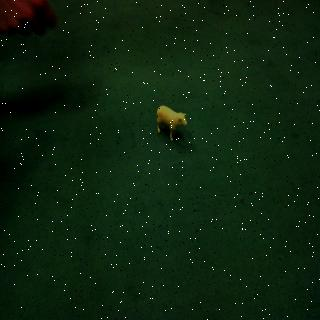sheep: (150, 103, 193, 144)
